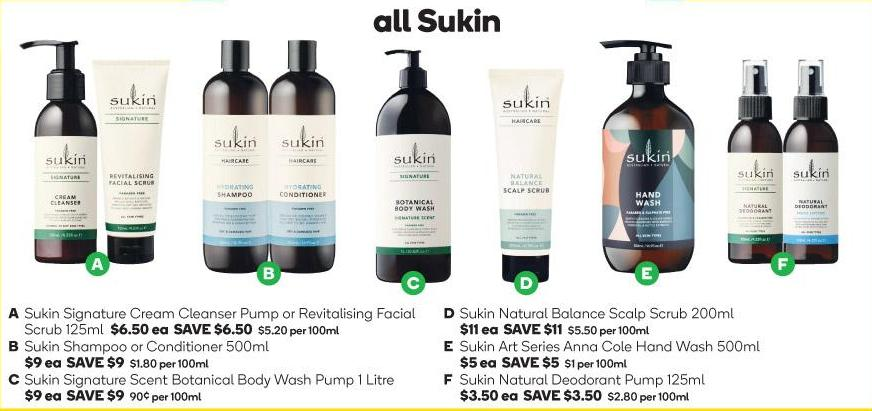description_block: (21, 306, 426, 338), (444, 334, 777, 358), (19, 371, 401, 391), (22, 339, 419, 356), (459, 304, 769, 322), (446, 368, 730, 387)
price_main: (454, 380, 524, 406), (454, 314, 503, 341), (108, 319, 174, 339), (450, 352, 501, 372), (19, 353, 65, 374), (16, 386, 64, 405)
product_image_block: (181, 32, 347, 294), (11, 32, 170, 282), (713, 43, 856, 285), (578, 32, 702, 297), (354, 37, 470, 294), (476, 41, 566, 300)
promo_text_block: (518, 382, 605, 407), (499, 314, 565, 339), (66, 349, 128, 373), (65, 384, 129, 406), (496, 354, 563, 374), (172, 320, 253, 336)
unit_price_block: (124, 383, 214, 410), (122, 349, 218, 373), (561, 318, 659, 340), (560, 349, 638, 374), (601, 390, 700, 406), (255, 322, 346, 338)
